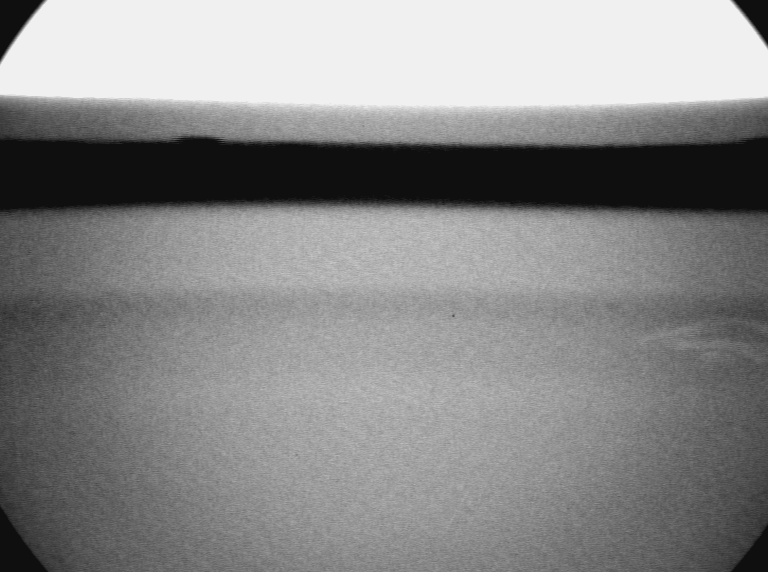defect: (643, 310, 768, 373)
